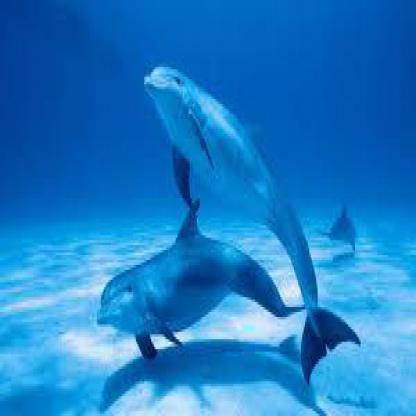dolphin: (143, 57, 363, 381), (90, 200, 305, 356), (314, 198, 360, 250)
